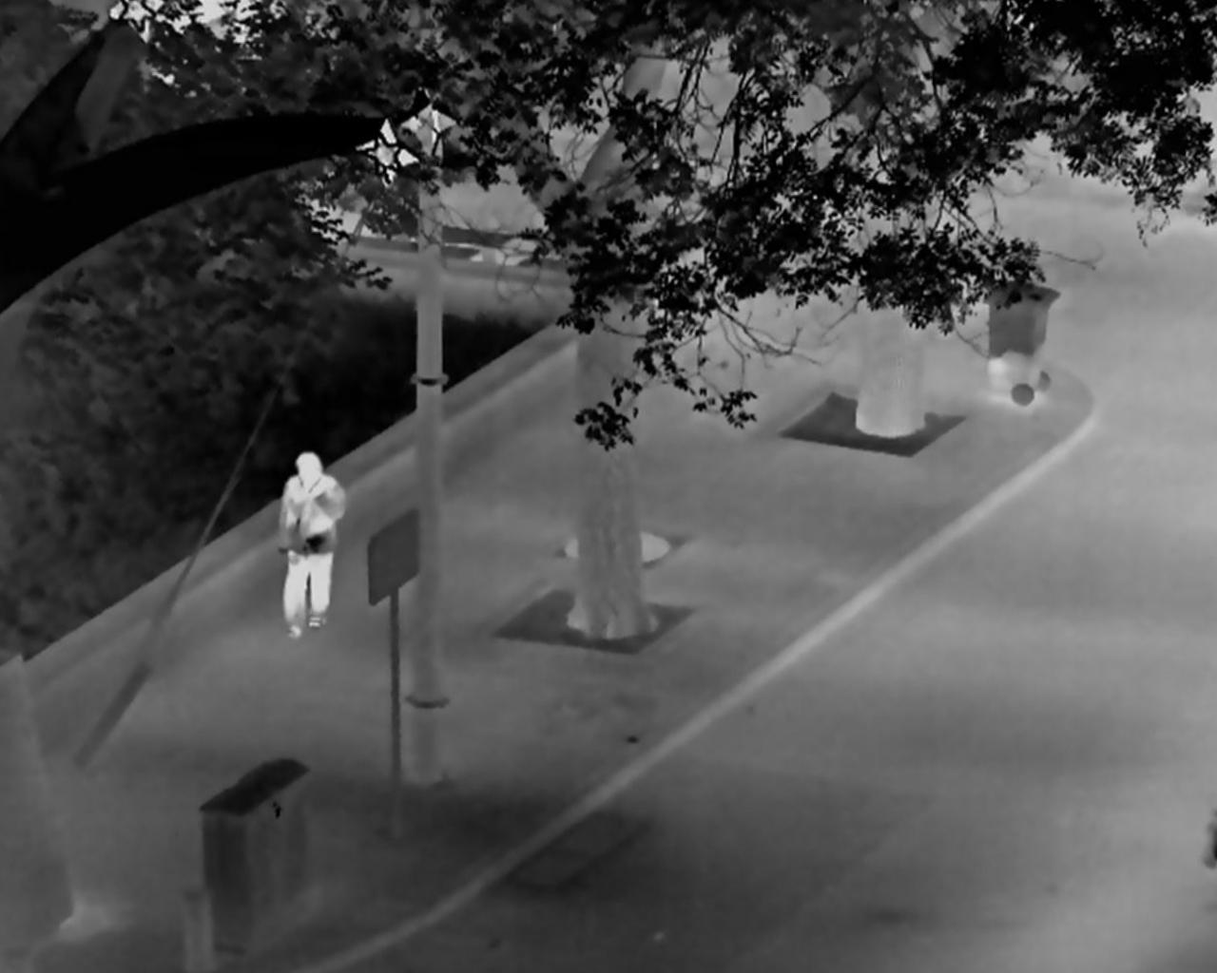person: (278, 449, 348, 639)
